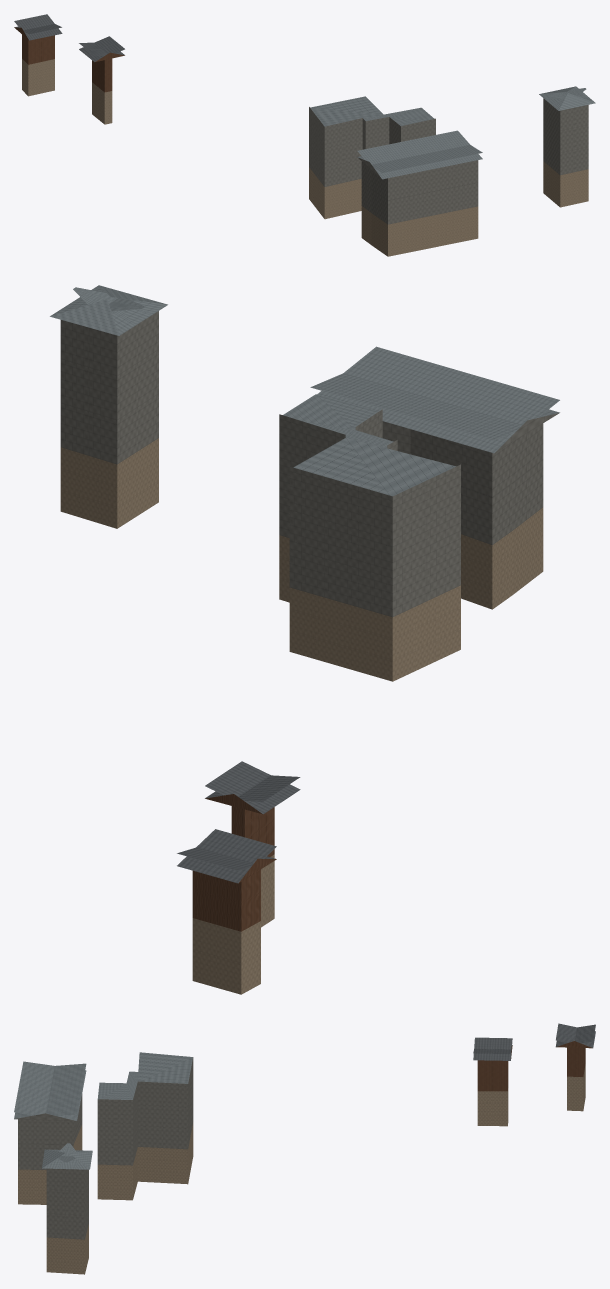
Rendered from bld_c33_-39_448.gltf.
The picture shows the model from 3 angles, top to bottom: view 1: azimuth 30°, elevation 25°; view 2: azimuth 150°, elevation 25°; view 3: azimuth 270°, elevation 25°; orthographic projection. The views are drawn at different scales.
Parts seen in each view (by area): view 1: bld_c33_-39_448; view 2: bld_c33_-39_448; view 3: bld_c33_-39_448.
Part boxes in pixels (x1,y1,x2,y2): bld_c33_-39_448: (14, 14, 595, 256); bld_c33_-39_448: (50, 285, 559, 994); bld_c33_-39_448: (14, 1023, 595, 1274).
Size of the model in its own units: 54.77 by 16.6 by 77.27.
Materials: 7 (7 with a texture image).
